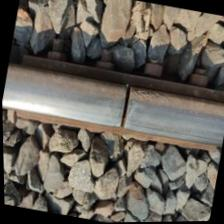person: (90, 69, 163, 146)
